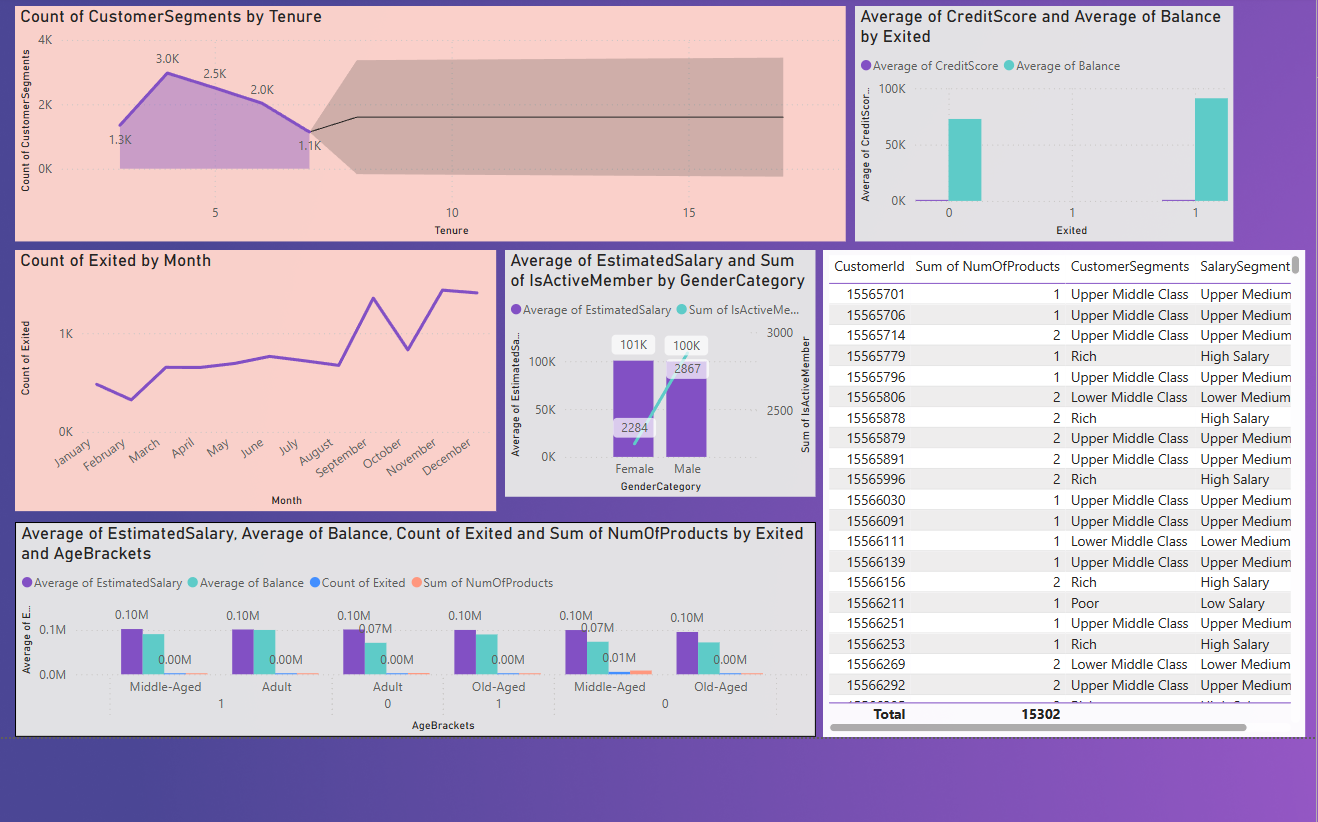

The dashboard page shown, as its layout file describes it:
{"tool":"powerbi","page":{"name":"Dashboard 4","canvas":[1280,720],"ordinal":3},"visuals":[{"type":"lineChart","fields":{"Category":["Bank_Churn.Tenure"],"Y":["CountNonNull(CustomerInfo.CustomerSegments)"]},"box":[14.6,8.8,808.3,228.6],"z":0},{"type":"clusteredColumnChart","fields":{"Y":["Avg(Bank_Churn.CreditScore)","Avg(Bank_Churn.Balance)"],"Category":["Bank_Churn.Exited"]},"box":[831.6,8.8,367.7,228.6],"z":1000},{"type":"lineChart","fields":{"Y":["CountNonNull(Bank_Churn.Exited)"],"Category":["CustomerInfo.Bank DOJ.Variation.Date Hierarchy.Month"]},"box":[14.6,246.1,467.8,253.9],"z":2000},{"type":"lineStackedColumnComboChart","fields":{"Category":["Gender.GenderCategory"],"Y":["Avg(CustomerInfo.EstimatedSalary)"],"Y2":["Sum(Bank_Churn.IsActiveMember)"]},"box":[491.2,246.1,302.5,240.2],"z":3000},{"type":"tableEx","fields":{"Values":["Bank_Churn.CustomerId","Sum(Bank_Churn.NumOfProducts)","CustomerInfo.CustomerSegments","CustomerInfo.SalarySegments"]},"box":[800.5,246.1,468.8,473.7],"z":4000},{"type":"clusteredColumnChart","fields":{"Category":["Bank_Churn.Exited","CustomerInfo.AgeBrackets"],"Y":["Avg(CustomerInfo.EstimatedSalary)","Avg(Bank_Churn.Balance)","CountNonNull(Bank_Churn.Exited)","Sum(Bank_Churn.NumOfProducts)"]},"box":[14.6,510.6,779.1,209.1],"z":5000}]}

Visuals, with their boxes in screenshot pixels (x1, y1, x2, y2):
lineChart - Bank_Churn.Tenure x CountNonNull(CustomerInfo.CustomerSegments): bbox=[18, 6, 839, 238]
clusteredColumnChart - Avg(Bank_Churn.CreditScore) x Avg(Bank_Churn.Balance): bbox=[848, 6, 1221, 238]
lineChart - CountNonNull(Bank_Churn.Exited) x CustomerInfo.Bank DOJ.Variation.Date Hierarchy.Month: bbox=[18, 246, 493, 504]
lineStackedColumnComboChart - Gender.GenderCategory x Avg(CustomerInfo.EstimatedSalary): bbox=[502, 246, 809, 490]
tableEx - Bank_Churn.CustomerId x Sum(Bank_Churn.NumOfProducts): bbox=[816, 246, 1292, 727]
clusteredColumnChart - Bank_Churn.Exited x CustomerInfo.AgeBrackets: bbox=[18, 515, 809, 727]
